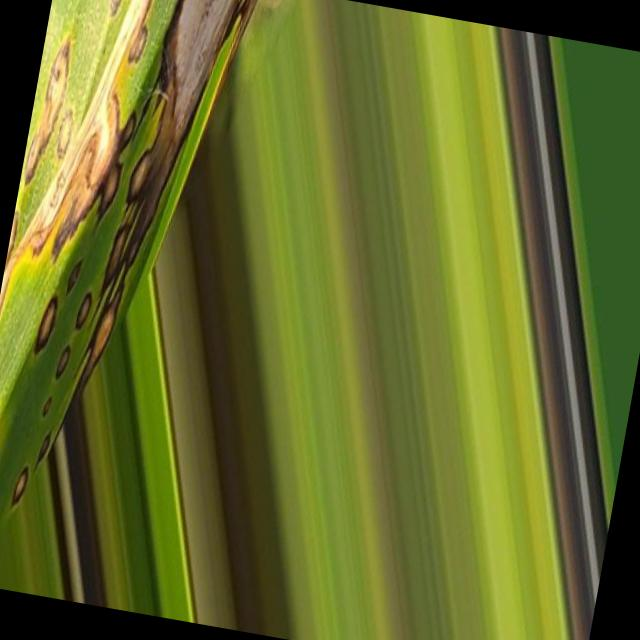Banana_Black_Sigatoka: (0, 0, 272, 539)
